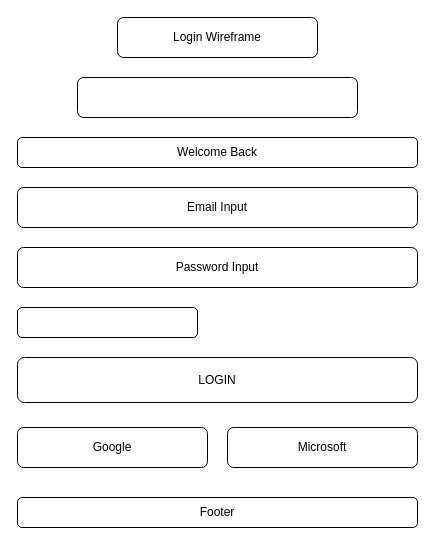
This 435x545 diagram has some shape labels left out. The centre of each missing label's shape, as x and y in pixels:
"LOGO" goes at point (217, 97).
"Remember Me" goes at point (107, 322).
